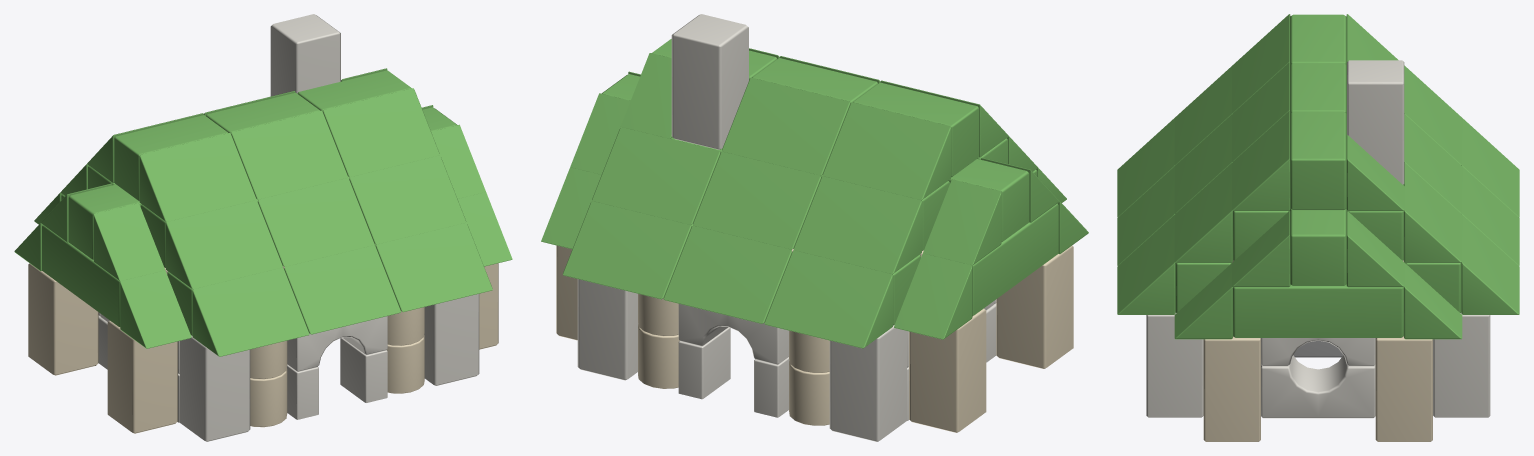
File: house middle.fbx
The picture shows the model from 3 angles, left to right: view 1: azimuth 30°, elevation 25°; view 2: azimuth 150°, elevation 25°; view 3: azimuth 270°, elevation 25°; orthographic projection. The views are drawn at different scales.
Visible parts, largest first — view 1: pCube436, pCube445, pCube441, pCube437, pCube633, pCube444, pCube635, pCube634, pCube440, pCube656, pCube43, pCube654 (+26 smaller); view 2: pCube426, pCube427, pCube424, pCube108, pCube433, pCube639, pCube637, pCube638, pCube528, pCube654, pCube48, pCube656 (+26 smaller); view 3: pCube659, pCube532, pCube660, pCube661, pCube108, pCube636, pCube51, pCube52, pCube635, pCube638, pCube633, pCube639 (+26 smaller).
Part boxes in pixels (box(x1,y1,x2,y2)): pCube436: box(192, 267, 309, 356); pCube445: box(139, 133, 256, 221); pCube441: box(166, 200, 282, 289); pCube437: box(284, 245, 400, 334); pCube633: box(376, 223, 492, 312); pCube444: box(231, 110, 347, 199); pCube635: box(323, 88, 439, 177); pCube634: box(349, 155, 466, 244); pCube440: box(258, 178, 374, 266); pCube656: box(107, 321, 177, 433); pCube43: box(180, 335, 250, 441); pCube654: box(28, 263, 98, 375); pCube426: box(764, 250, 892, 348); pCube427: box(822, 102, 950, 200); pCube424: box(793, 176, 921, 274); pCube108: box(671, 14, 748, 149); pCube433: box(663, 225, 791, 323); pCube639: box(563, 201, 691, 299); pCube637: box(722, 77, 850, 175); pCube638: box(592, 127, 720, 224); pCube528: box(693, 151, 820, 249); pCube654: box(909, 308, 986, 432); pCube48: box(829, 325, 906, 441); pCube656: box(996, 245, 1073, 368); pCube659: box(1233, 284, 1403, 337); pCube532: box(1261, 355, 1375, 418); pCube660: box(1375, 336, 1432, 441); pCube661: box(1203, 336, 1260, 441); pCube108: box(1347, 60, 1404, 184); pCube636: box(1290, 111, 1346, 210); pCube51: box(1146, 313, 1203, 417); pCube52: box(1433, 313, 1490, 417); pCube635: box(1232, 111, 1290, 210); pCube638: box(1404, 163, 1462, 262); pCube633: box(1117, 215, 1175, 314); pCube639: box(1461, 215, 1519, 314).
Size of the model in its own units: 84 by 63 by 73.64.
